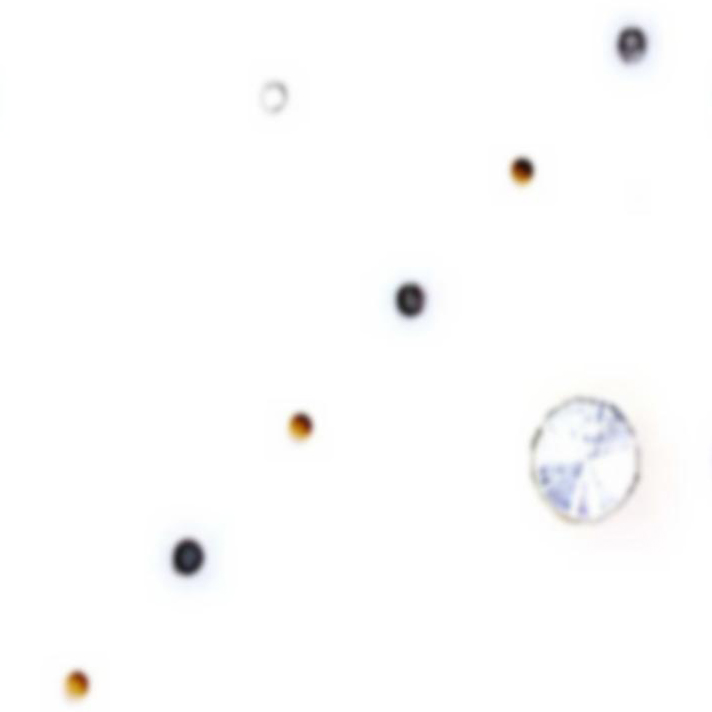abnormal: (496, 372, 684, 546), (244, 64, 314, 130)
cancer: (128, 508, 235, 608), (583, 3, 674, 86), (372, 262, 454, 348)
normal: (491, 146, 548, 200), (52, 663, 111, 710), (267, 403, 323, 446)
